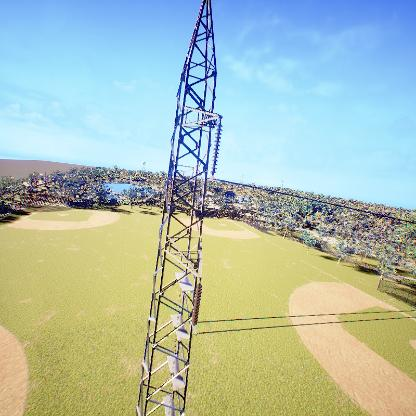tower: (130, 0, 228, 416)
